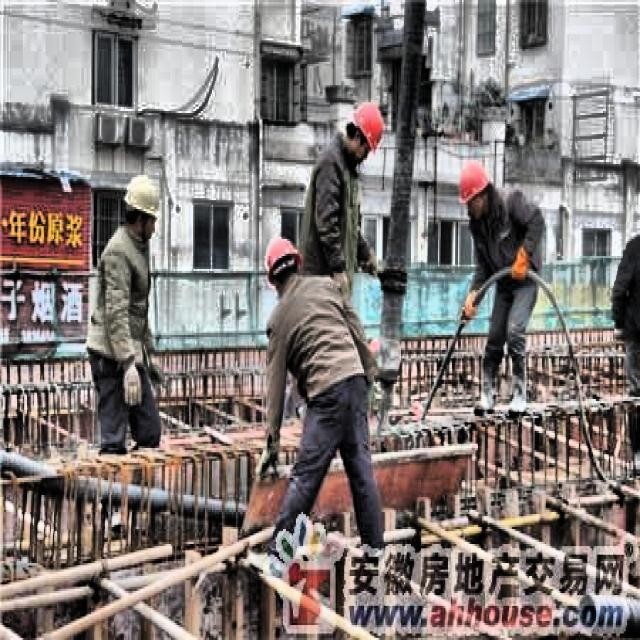helmet: (262, 230, 304, 301), (121, 169, 162, 241), (455, 154, 496, 226), (343, 100, 387, 162)
